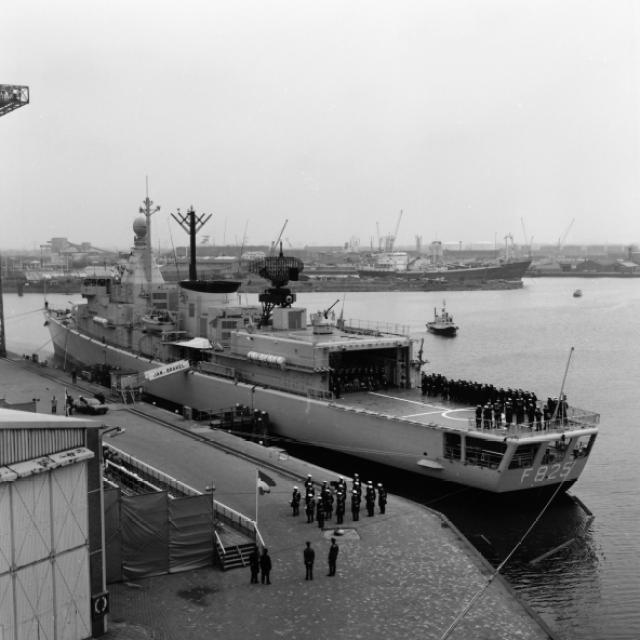Fragata: (32, 184, 602, 495)
